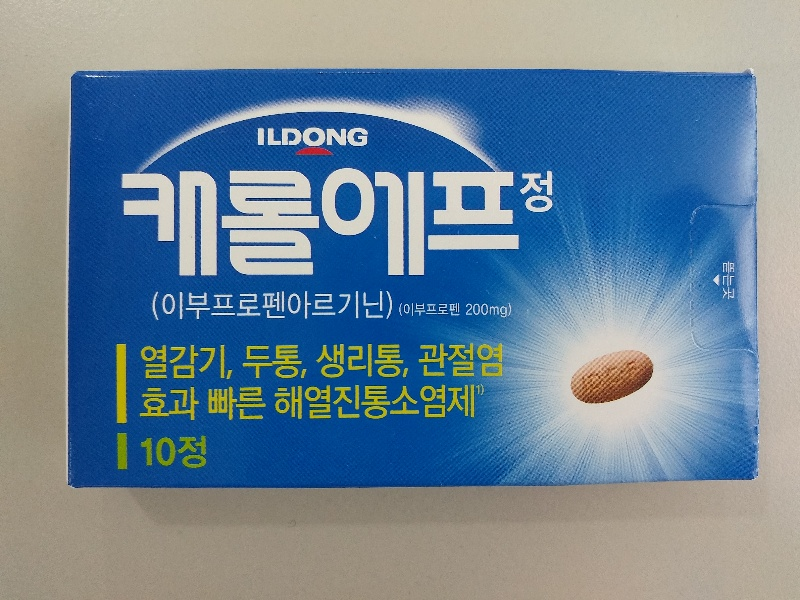carolF: (69, 73, 758, 485)
